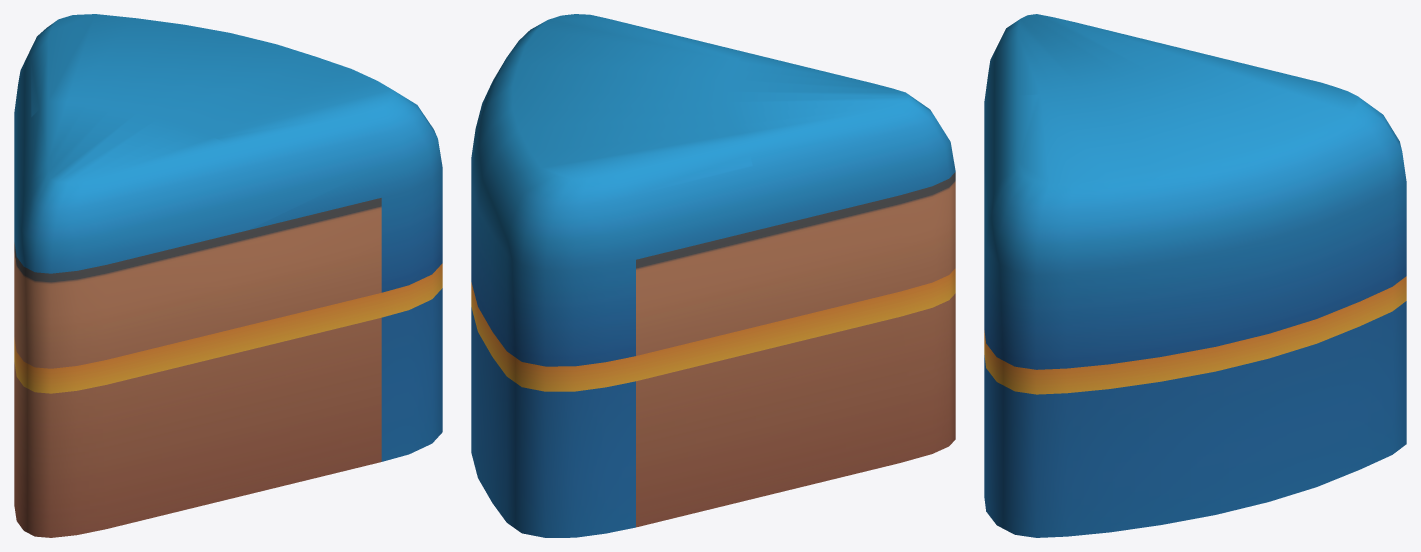
File: cake04_slice.FBX
The picture shows the model from 3 angles, left to right: view 1: azimuth 30°, elevation 25°; view 2: azimuth 150°, elevation 25°; view 3: azimuth 270°, elevation 25°; orthographic projection.
Visible parts, largest first — view 1: cake04_slice; view 2: cake04_slice; view 3: cake04_slice.
Part boxes in pixels (left/top/right/bottom): cake04_slice: left=14, top=14, right=442, bottom=537; cake04_slice: left=471, top=14, right=955, bottom=537; cake04_slice: left=984, top=14, right=1406, bottom=537.
Size of the model in its own units: 0.00904 by 0.00692 by 0.00788.
